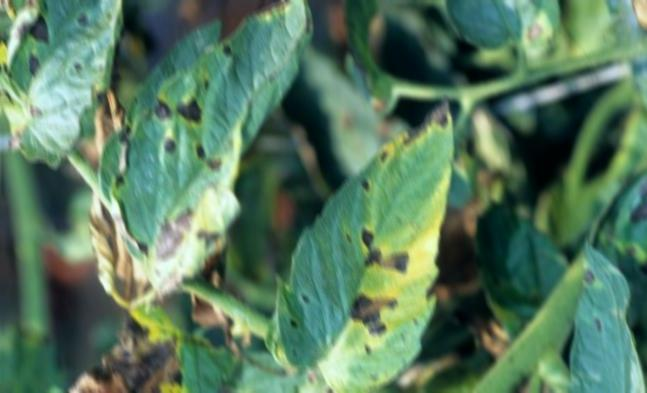Tomato Early blight leaf: (110, 0, 315, 291), (264, 119, 473, 386)
